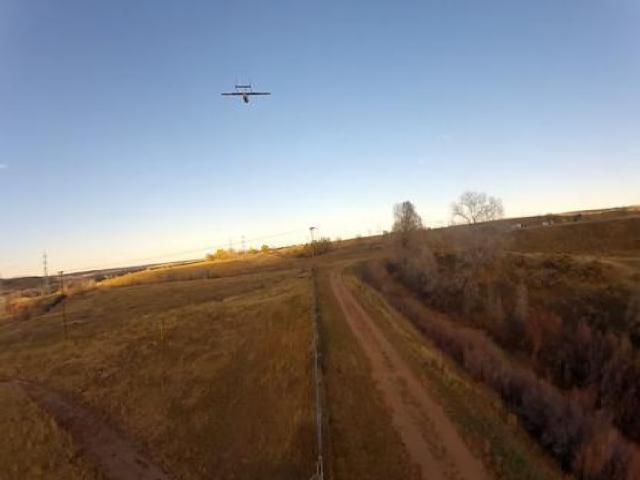uav: (222, 82, 272, 104)
